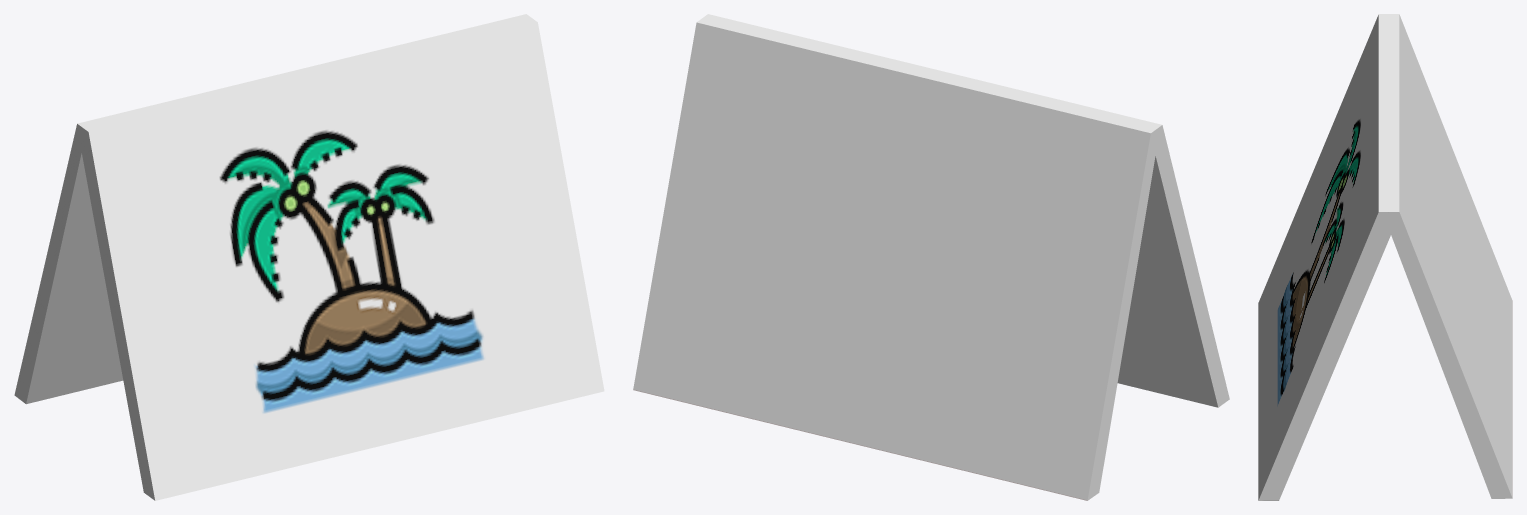
The model's file is On_vacation.FBX.
3 renders of one model, left to right at view 1: azimuth 30°, elevation 25°; view 2: azimuth 150°, elevation 25°; view 3: azimuth 270°, elevation 25°, orthographic. The views are drawn at different scales.
Parts seen in each view (by area): view 1: Cartel_vacaciones; view 2: Cartel_vacaciones; view 3: Cartel_vacaciones.
Part boxes in pixels (bbox=[...]): Cartel_vacaciones: bbox=[14, 14, 604, 500]; Cartel_vacaciones: bbox=[633, 14, 1229, 500]; Cartel_vacaciones: bbox=[1258, 14, 1512, 500].
Size of the model in its own units: 26.13 by 17.79 by 14.18.
